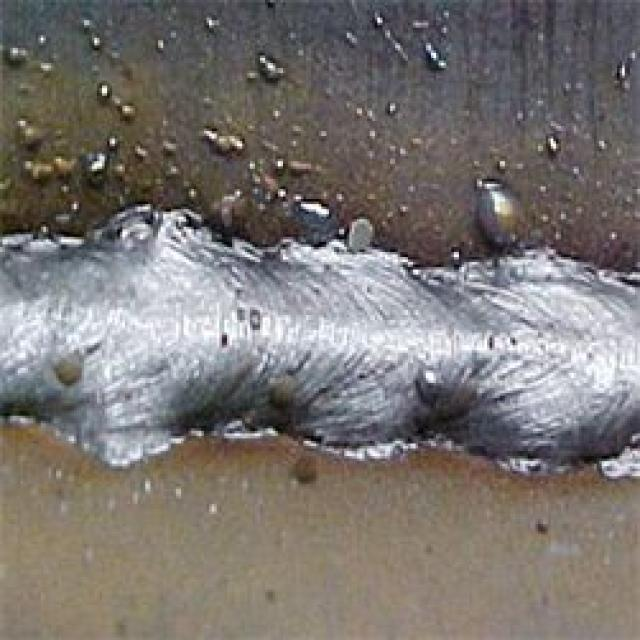Excess Reinforcement: (598, 452, 640, 478), (325, 448, 454, 456)
Spatters: (478, 184, 522, 247), (296, 199, 336, 244), (73, 152, 114, 188), (210, 127, 244, 152), (546, 127, 564, 163), (256, 57, 280, 84), (417, 373, 442, 398), (425, 43, 446, 70), (56, 362, 82, 382), (25, 159, 49, 176), (86, 32, 104, 52), (100, 77, 112, 105), (20, 127, 38, 144), (202, 20, 224, 33), (12, 48, 24, 53)
